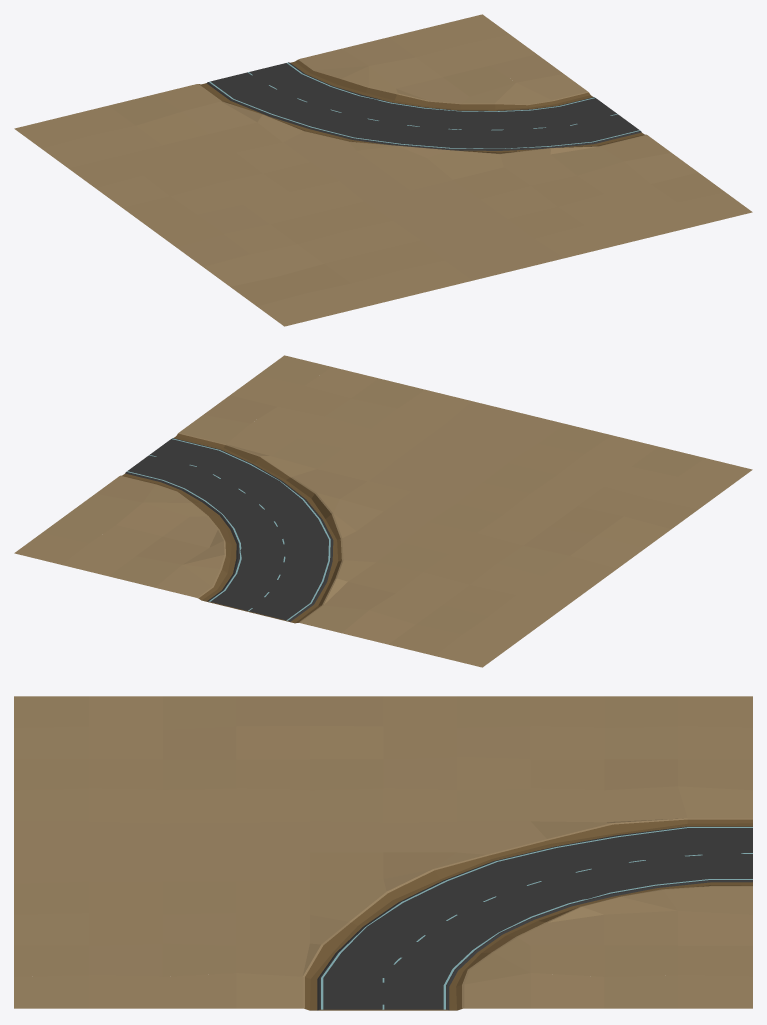
File: model_road_dirt_cornor_1.fbx
The picture shows the model from 3 angles, top to bottom: view 1: azimuth 30°, elevation 25°; view 2: azimuth 150°, elevation 25°; view 3: azimuth 270°, elevation 25°; orthographic projection. The views are drawn at different scales.
Parts seen in each view (by area): view 1: model_road_dirt_cornor_1; view 2: model_road_dirt_cornor_1; view 3: model_road_dirt_cornor_1.
Part boxes in pixels (x1=…): model_road_dirt_cornor_1: x1=14, y1=14, x2=752, y2=326; model_road_dirt_cornor_1: x1=14, y1=355, x2=752, y2=667; model_road_dirt_cornor_1: x1=14, y1=696, x2=752, y2=1010.
Size of the model in its own units: 6162 by 62.78 by 6162.
1 material, 1 textured.
